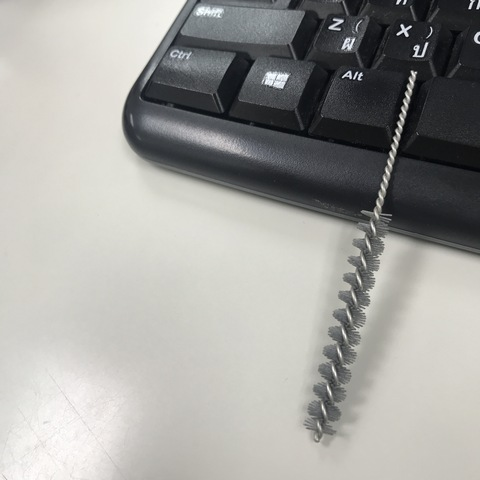Twist Brush-A: (301, 69, 421, 444)
